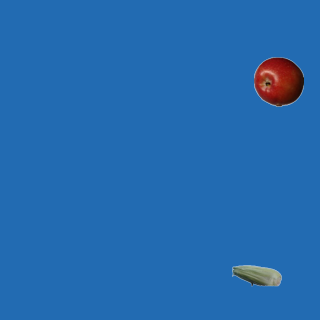Apple Braeburn: (253, 56, 303, 106)
Corn Husk: (231, 250, 281, 300)
